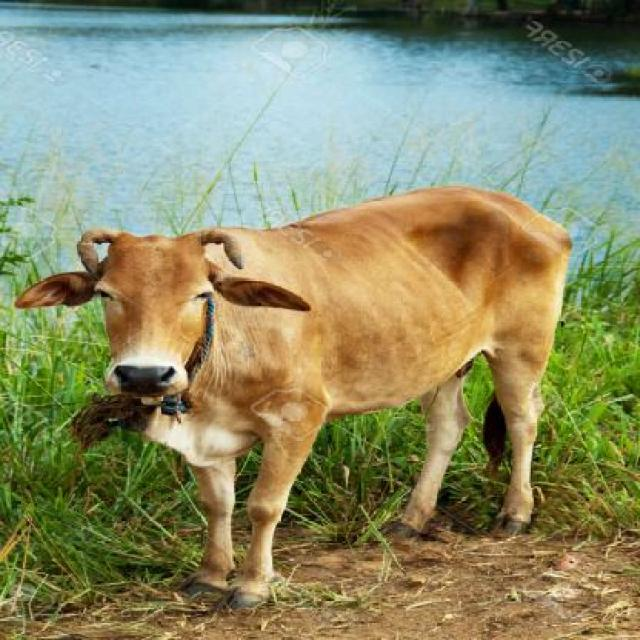Cow: (20, 183, 583, 611)
